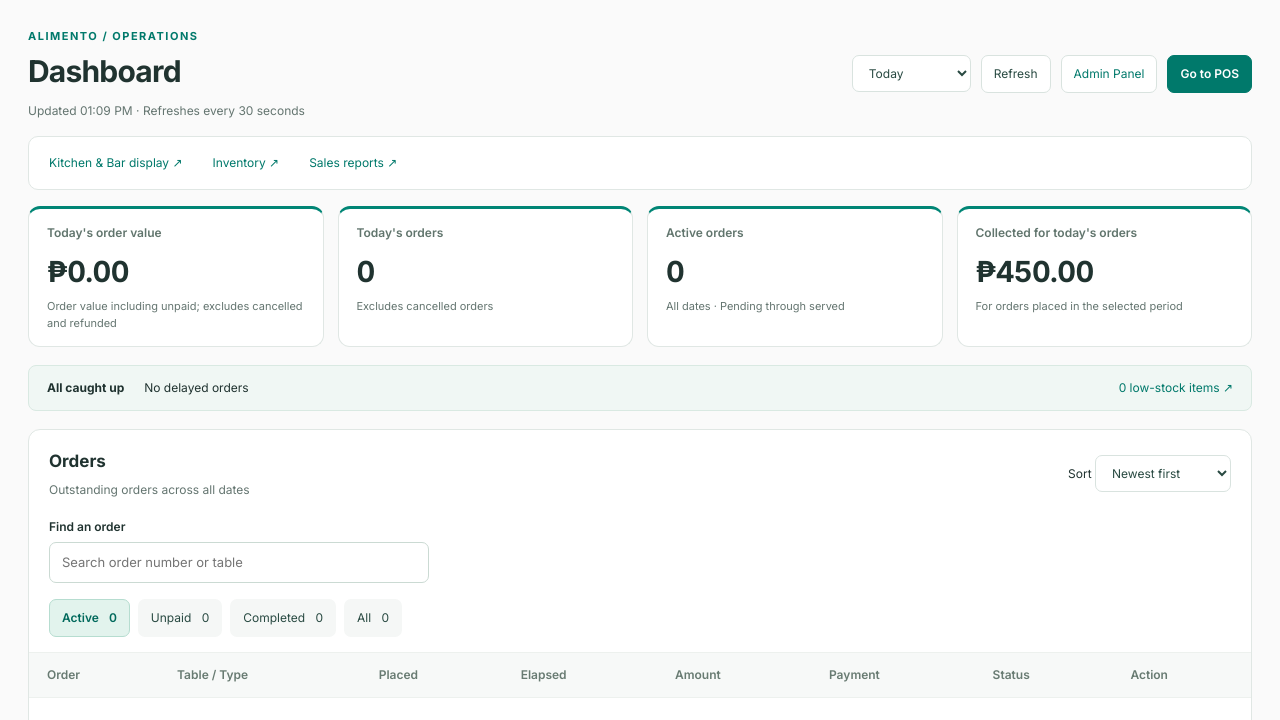
searches orders on the server and shows a useful empty state
Expected: the text "All caught up" is shown, [47,379,124,397]
Type "Table 12" into the search field labelled "Find an order".
click(239, 562); type("Table 12")  # box [49,542,429,583]
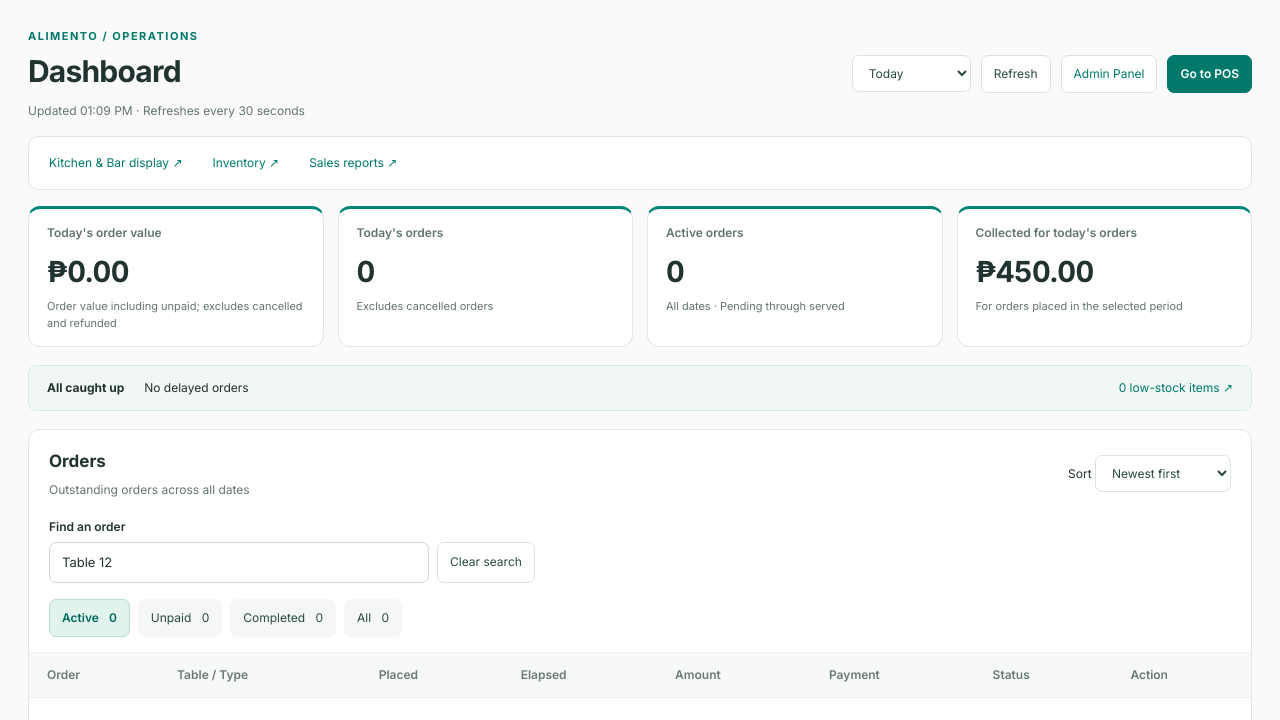
Click the button "Clear search".
click(486, 562)  # box [437,542,535,583]
(page scrolled)
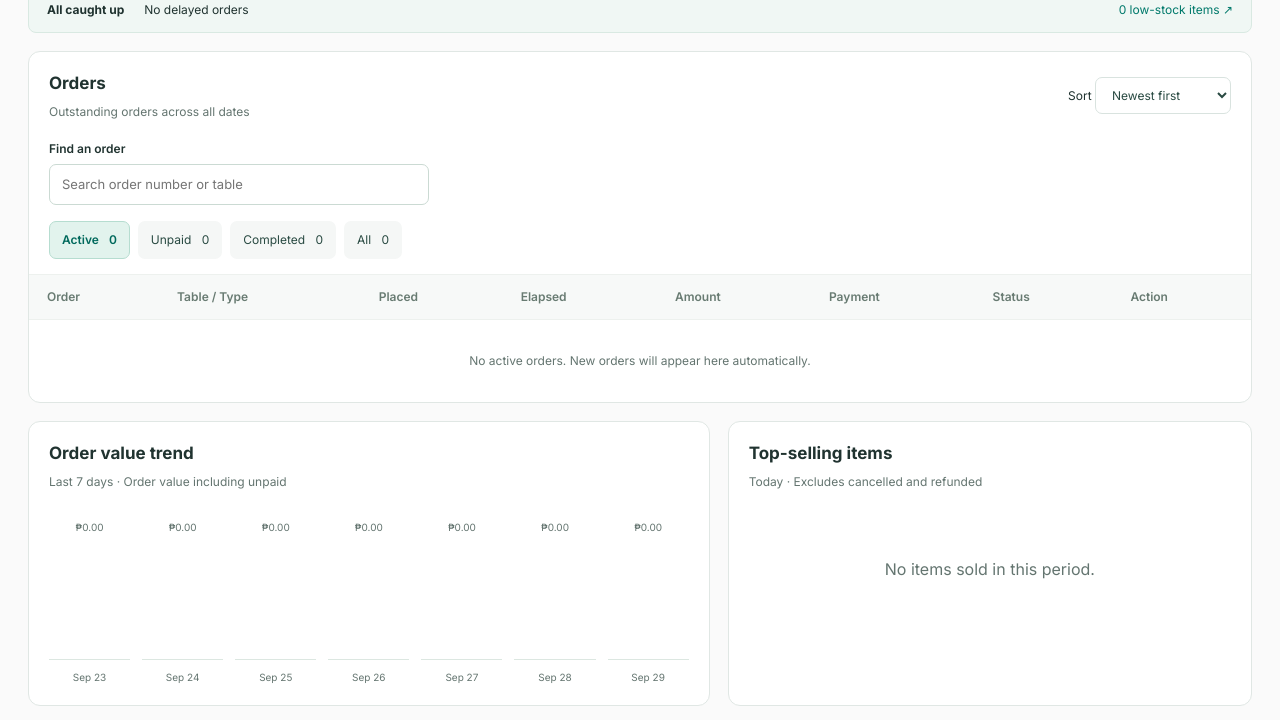
Now the text "No active orders. New orders will appear here automatically." is shown, box [29,320,1251,402]
